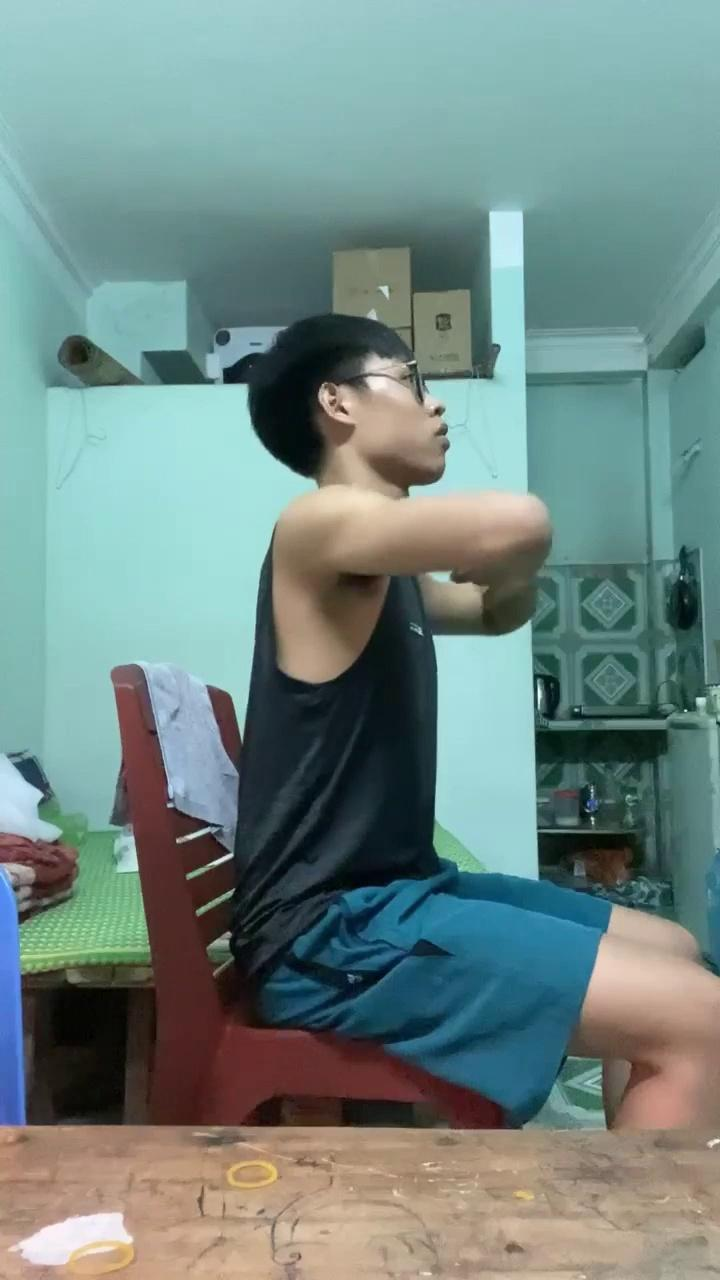GoodPosture: (232, 314, 719, 1131)
